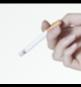Cigarette: (18, 20, 61, 58)
